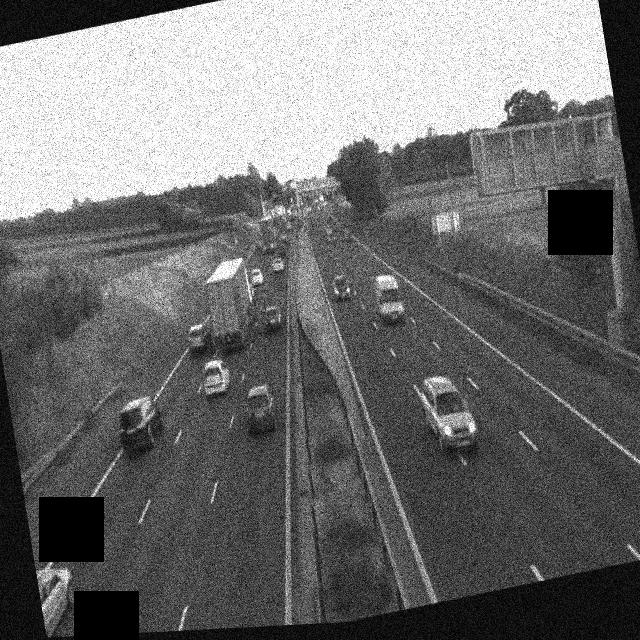car: (417, 370, 479, 459), (35, 562, 82, 638), (114, 393, 168, 455), (242, 381, 279, 435), (373, 271, 406, 326), (198, 355, 232, 399), (185, 319, 216, 357), (332, 271, 352, 302), (263, 305, 284, 333), (250, 267, 266, 288), (270, 255, 284, 273), (259, 240, 271, 256), (277, 240, 288, 257), (344, 228, 354, 243), (326, 232, 336, 247), (282, 228, 292, 242)
truck: (202, 255, 262, 355), (257, 213, 277, 252)
